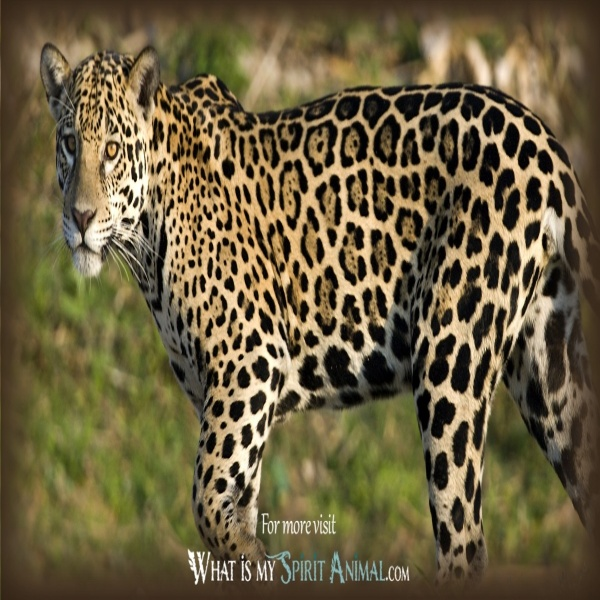Leopard: (37, 36, 600, 592)
